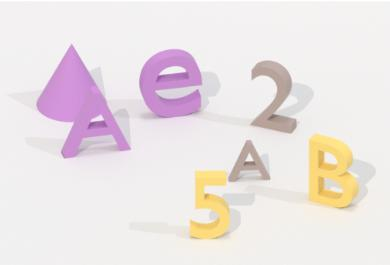0-TamGiac: (35, 39, 109, 124)
2: (246, 56, 303, 137)
5: (185, 166, 234, 243)
A: (60, 86, 131, 163), (227, 136, 273, 186)
B: (305, 128, 360, 212)
e: (137, 44, 204, 121)
